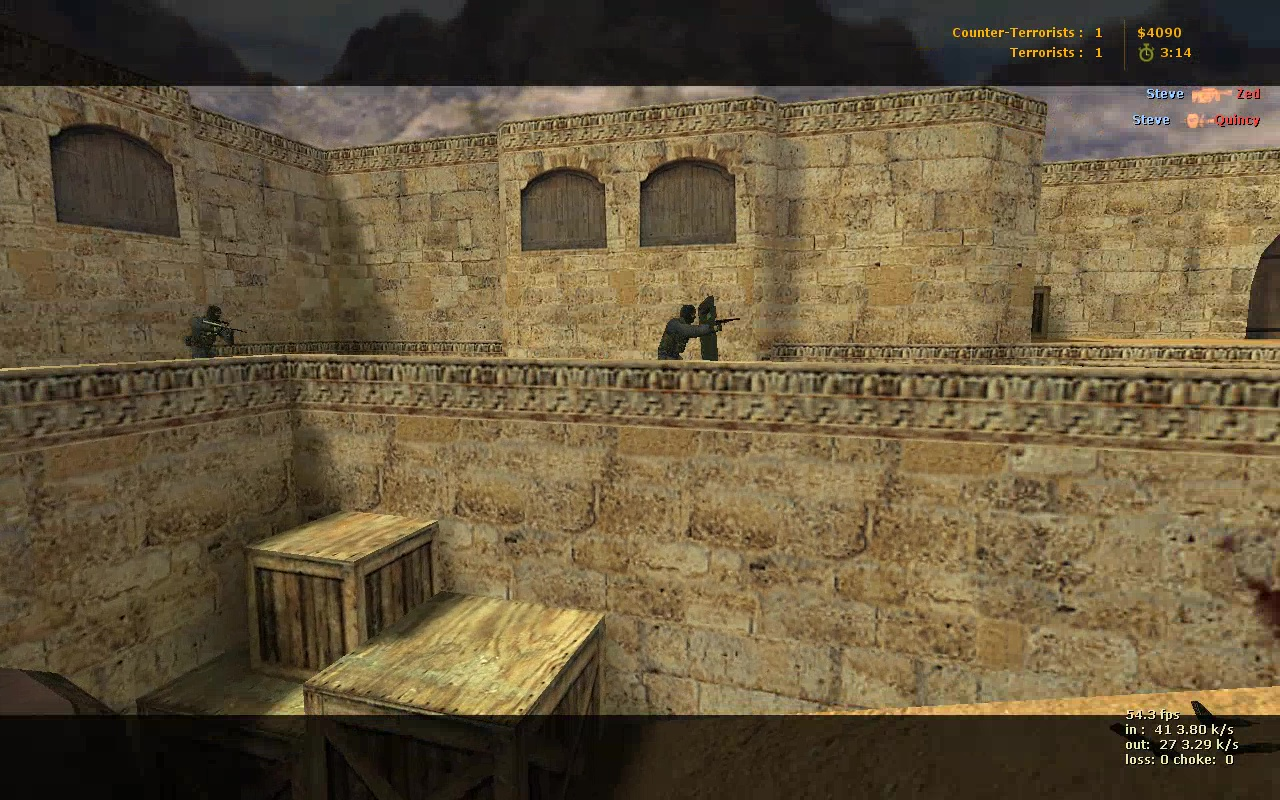ct: (660, 296, 726, 362), (187, 307, 241, 357)
